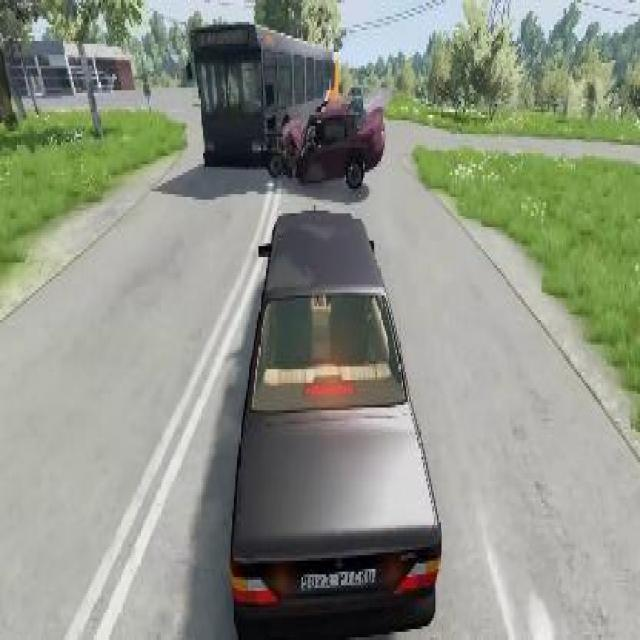accident: (187, 0, 389, 191)
